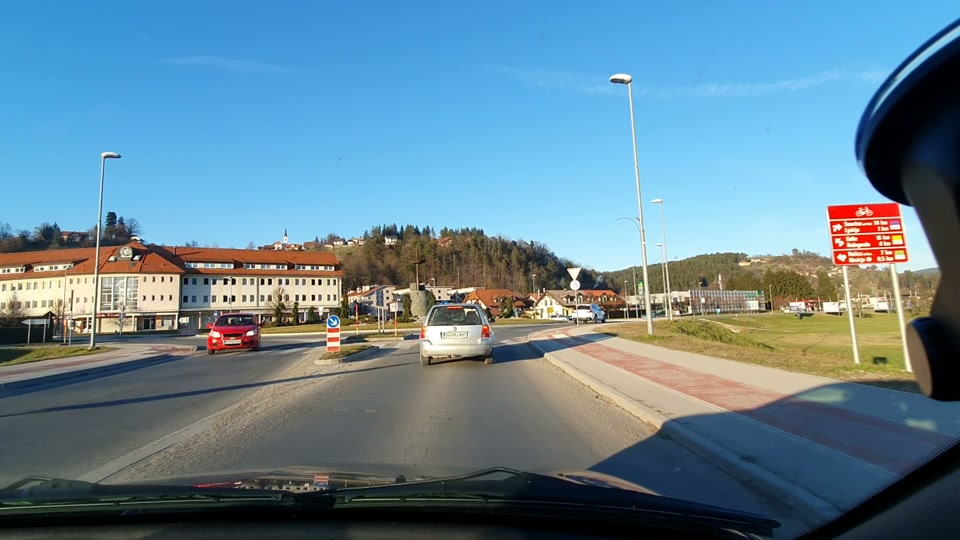vehicle_ign: (417, 303, 496, 370)
vehicle_s: (204, 307, 261, 358)
